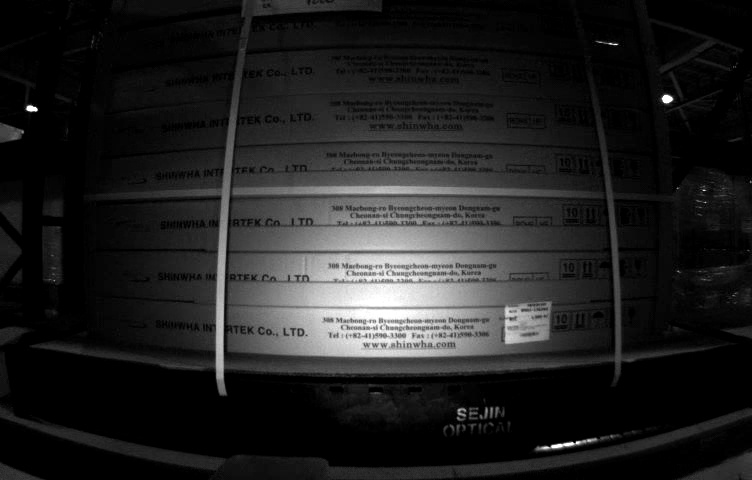True Barcode: (504, 301, 553, 341)
